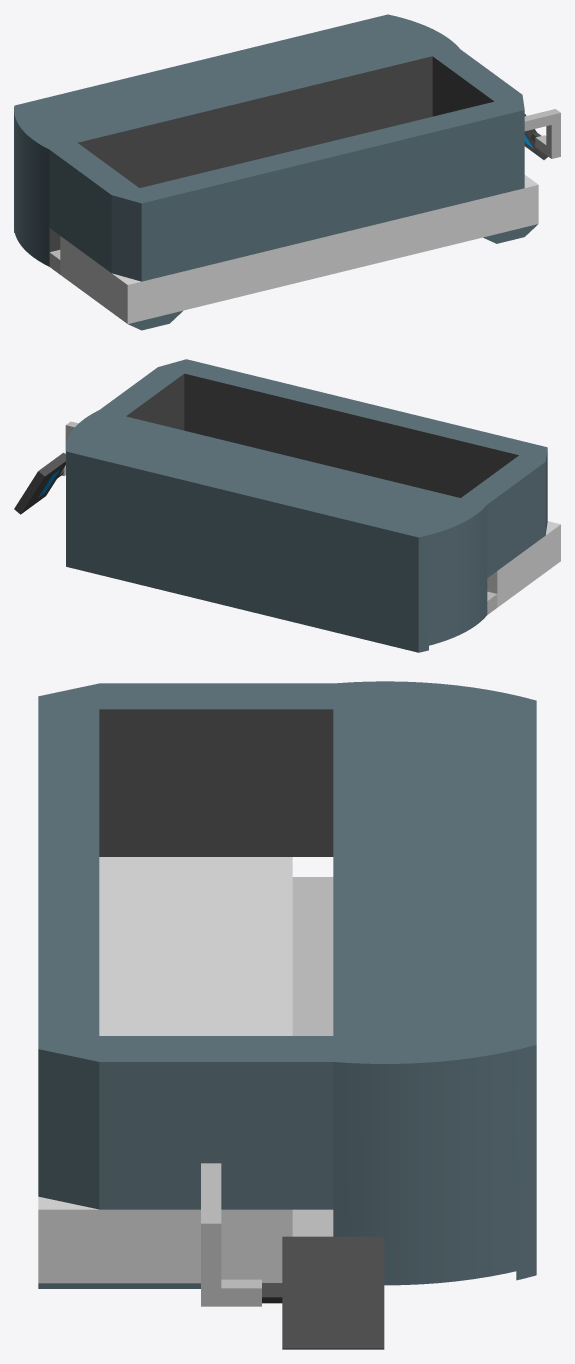
The model's file is cnc_bending_machine_2_state_2.dae.
3 renders of one model, top to bottom at view 1: azimuth 30°, elevation 25°; view 2: azimuth 150°, elevation 25°; view 3: azimuth 270°, elevation 25°, orthographic. The views are drawn at different scales.
Visible parts, largest first — view 1: coords_ME_ID3_MA_material_16, coords_ME_ID47_MA_material, coords_ME_ID73_MA_material_8, coords_ME_ID11_MA_material_11, coords_ME_ID79_MA_material_16, coords_ME_ID27_MA_material_16; view 2: coords_ME_ID3_MA_material_16, coords_ME_ID47_MA_material, coords_ME_ID73_MA_material_8, coords_ME_ID19_MA_material; view 3: coords_ME_ID3_MA_material_16, coords_ME_ID73_MA_material_8, coords_ME_ID47_MA_material, coords_ME_ID19_MA_material, coords_ME_ID67_MA_material_11, coords_ME_ID11_MA_material_11, coords_ME_ID27_MA_material_16.
Part boxes in pixels (box(x1,y1,x2,y2)): coords_ME_ID3_MA_material_16: box(14, 14, 524, 281); coords_ME_ID47_MA_material: box(49, 56, 493, 251); coords_ME_ID73_MA_material_8: box(60, 175, 538, 323); coords_ME_ID11_MA_material_11: box(524, 109, 560, 158); coords_ME_ID79_MA_material_16: box(128, 311, 182, 330); coords_ME_ID27_MA_material_16: box(483, 224, 537, 243); coords_ME_ID3_MA_material_16: box(66, 359, 547, 652); coords_ME_ID47_MA_material: box(126, 373, 518, 497); coords_ME_ID73_MA_material_8: box(487, 521, 560, 607); coords_ME_ID19_MA_material: box(14, 452, 65, 514); coords_ME_ID3_MA_material_16: box(38, 681, 536, 1285); coords_ME_ID73_MA_material_8: box(38, 857, 292, 1283); coords_ME_ID47_MA_material: box(99, 709, 333, 856); coords_ME_ID19_MA_material: box(262, 1236, 384, 1349); coords_ME_ID67_MA_material_11: box(292, 877, 333, 1236); coords_ME_ID11_MA_material_11: box(201, 1163, 261, 1306); coords_ME_ID27_MA_material_16: box(38, 1283, 200, 1288).
Size of the model in its own units: 70.27 by 22.76 by 32.8.
